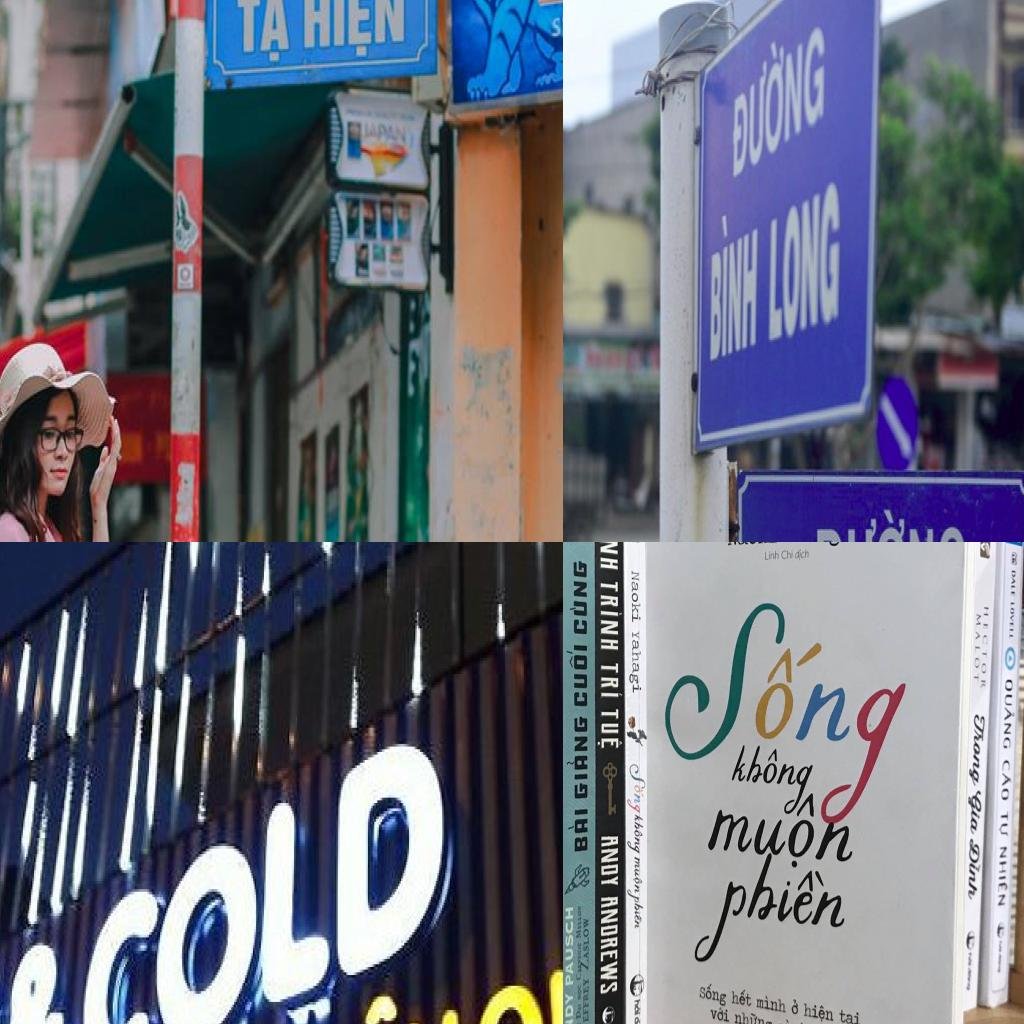text: (73, 701, 457, 1024), (646, 598, 880, 769), (689, 849, 862, 978), (729, 2, 828, 182), (816, 672, 910, 836), (702, 784, 866, 878), (764, 172, 842, 350), (284, 966, 462, 1024), (708, 208, 762, 372), (0, 916, 70, 1024), (724, 745, 822, 815), (302, 0, 406, 63), (810, 512, 965, 542), (235, 0, 293, 66), (566, 716, 588, 799), (600, 895, 618, 995), (599, 579, 622, 653), (568, 559, 588, 637), (566, 644, 588, 708), (968, 712, 986, 788), (362, 121, 408, 147), (626, 760, 646, 817), (966, 836, 983, 901), (596, 707, 622, 749), (1002, 679, 1016, 750), (600, 834, 619, 884), (979, 605, 990, 690), (568, 808, 588, 854), (600, 661, 623, 699), (625, 886, 645, 929), (625, 812, 644, 856), (629, 630, 642, 694), (966, 790, 982, 837), (698, 983, 728, 1008), (997, 845, 1009, 907), (565, 906, 574, 987), (803, 1002, 835, 1024), (972, 613, 982, 683), (599, 542, 621, 572), (756, 994, 786, 1016), (732, 1008, 773, 1024), (630, 569, 642, 623), (631, 855, 645, 894), (1001, 760, 1013, 802), (731, 988, 753, 1008), (581, 918, 589, 972), (581, 977, 590, 1024), (550, 9, 563, 41), (784, 542, 851, 548), (708, 1006, 730, 1023), (998, 810, 1010, 840), (839, 1009, 861, 1024), (564, 992, 573, 1024), (1009, 601, 1016, 640), (795, 548, 811, 562), (1010, 569, 1017, 599), (576, 906, 582, 939), (764, 549, 780, 561), (634, 998, 642, 1016), (782, 549, 794, 561), (791, 999, 799, 1015), (576, 1004, 582, 1018), (577, 984, 582, 1000), (777, 1019, 792, 1024), (632, 1016, 641, 1024), (980, 543, 986, 553)
